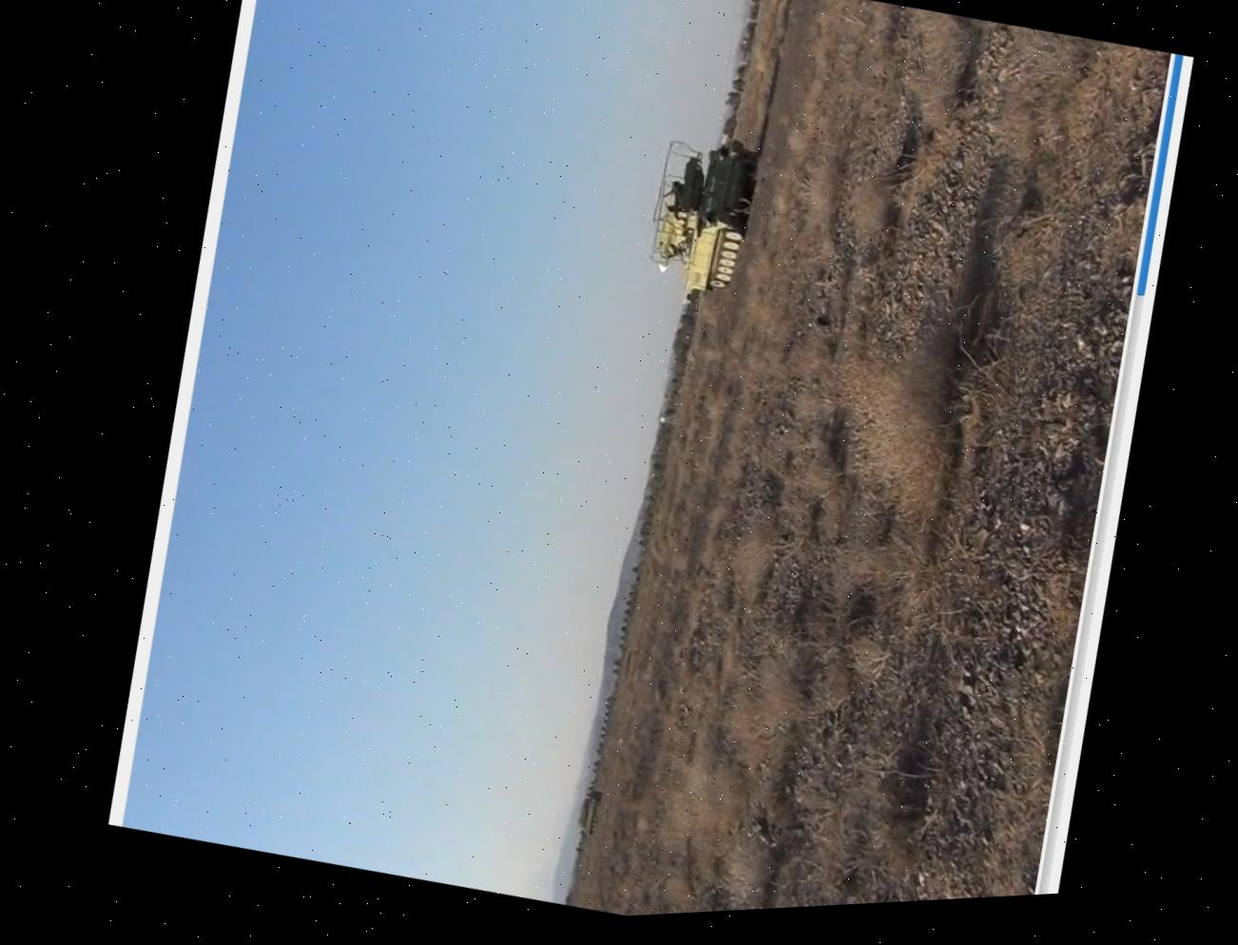armored_car: (629, 123, 773, 312)
